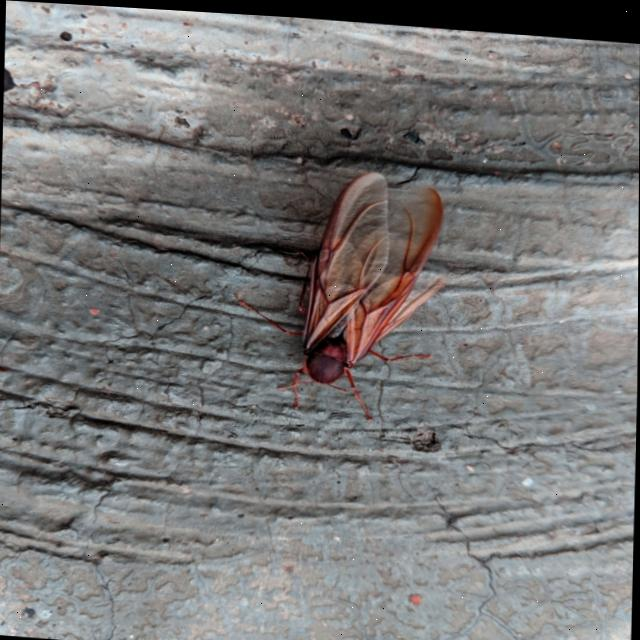Alive-Male-Alate: (235, 157, 451, 422)
